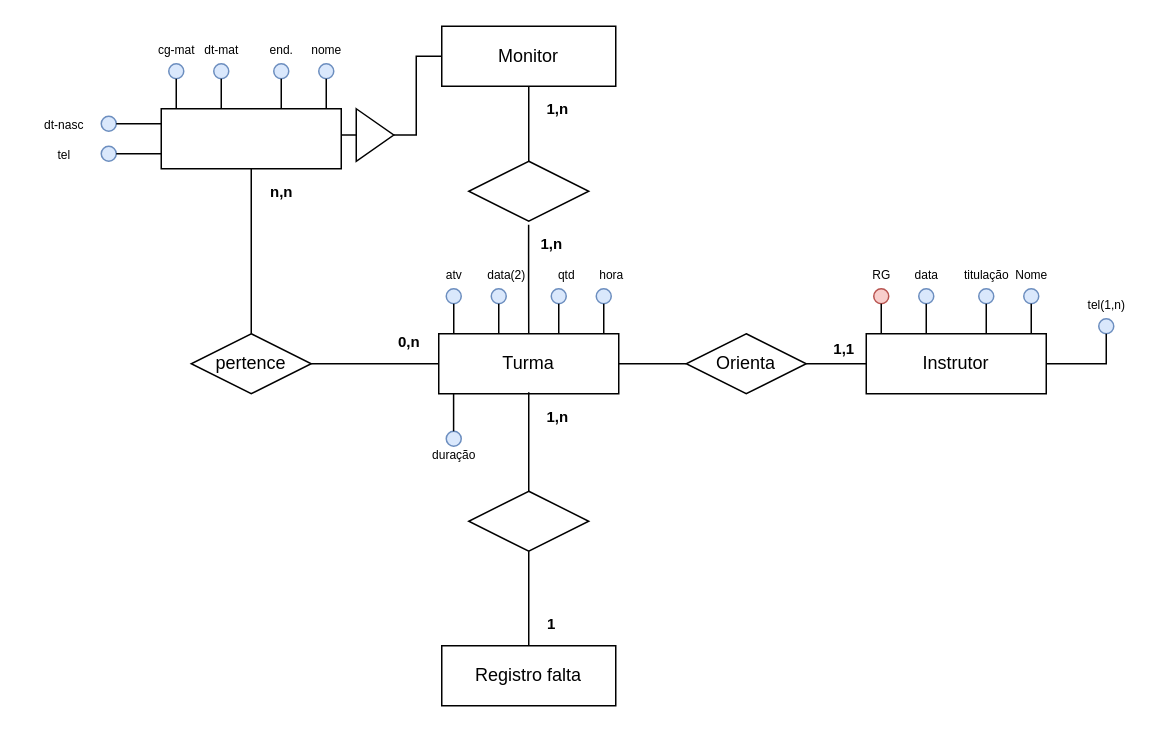
Some shapes in this 1169 by 732 pixel diagram are drawn without their labels. Each missing label, with the centre of its shape:
"Aluno" belongs at (250,138).
"Auxilia" belongs at (528,190).
"contem" belongs at (528,520).
